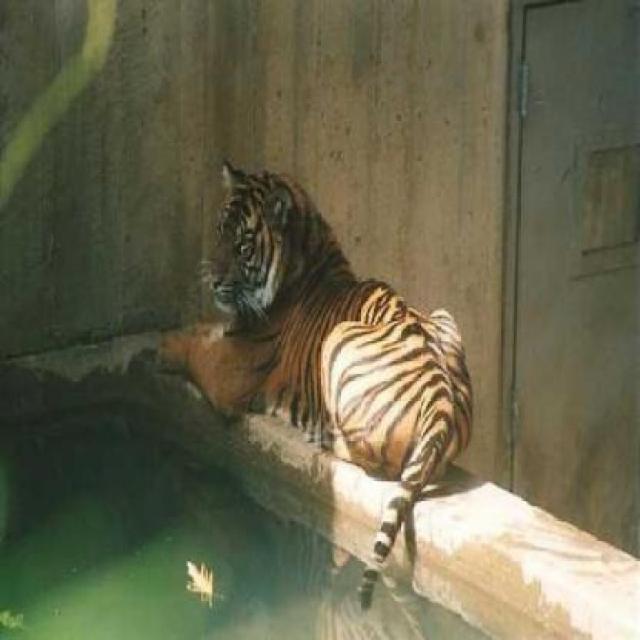Tiger: (144, 148, 482, 604)
